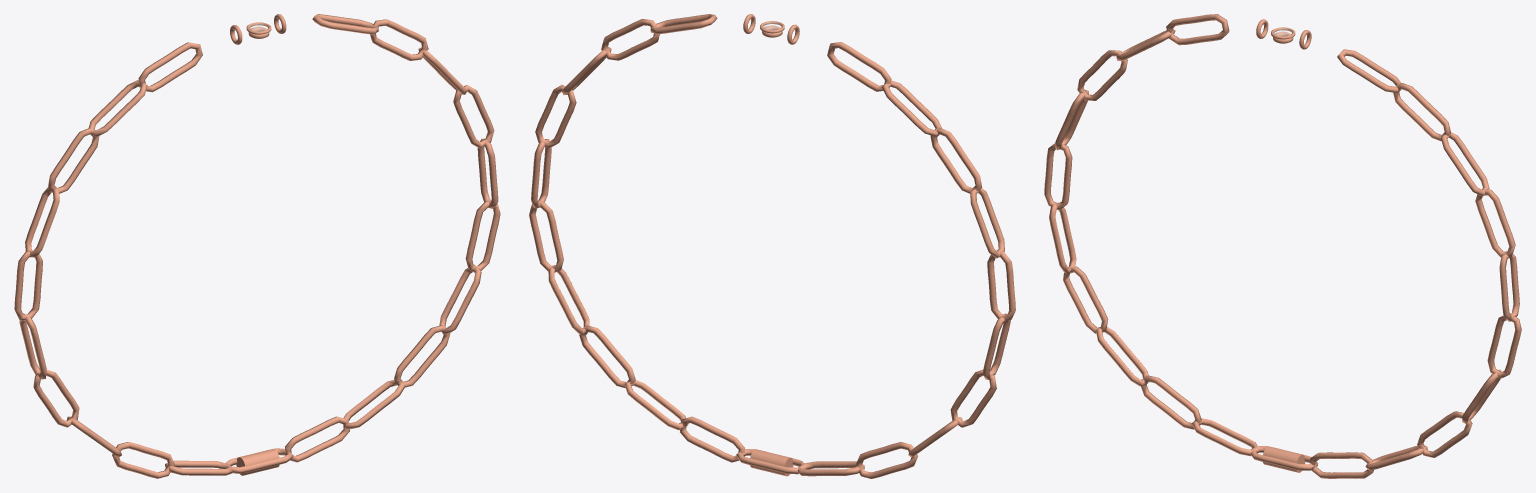
The model's file is chain-bracelet.glb.
The picture shows the model from 3 angles, left to right: view 1: azimuth 30°, elevation 25°; view 2: azimuth 150°, elevation 25°; view 3: azimuth 330°, elevation 25°; orthographic projection.
Visible parts, largest first — view 1: metal; view 2: metal; view 3: metal.
Part boxes in pixels (box(x1,y1,x2,y2)): metal: box(14, 14, 500, 478); metal: box(529, 14, 1015, 478); metal: box(1044, 14, 1521, 478).
Size of the model in its own units: 7.06 by 6.28 by 0.3632.
